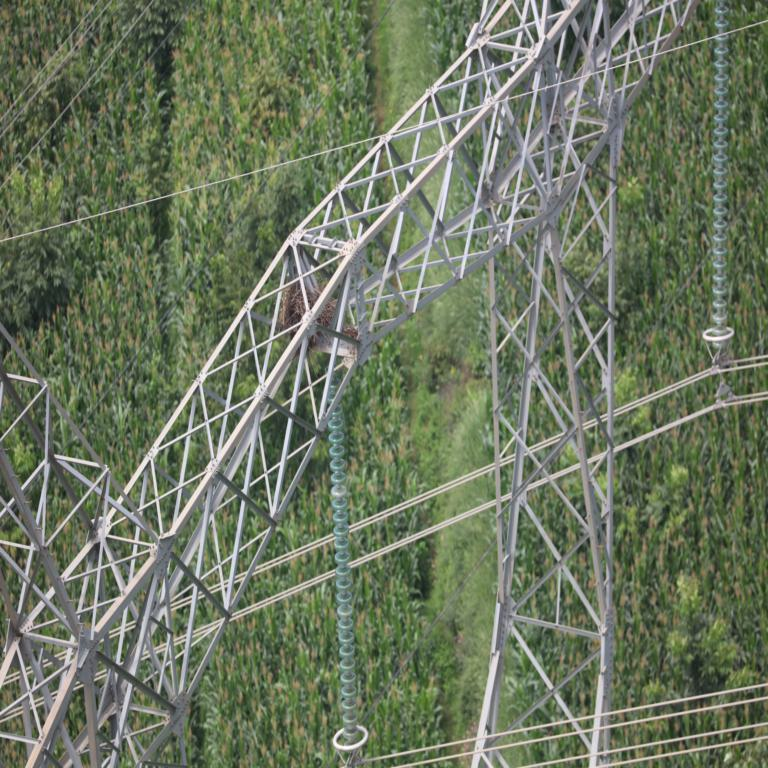nest: (284, 287, 335, 349)
